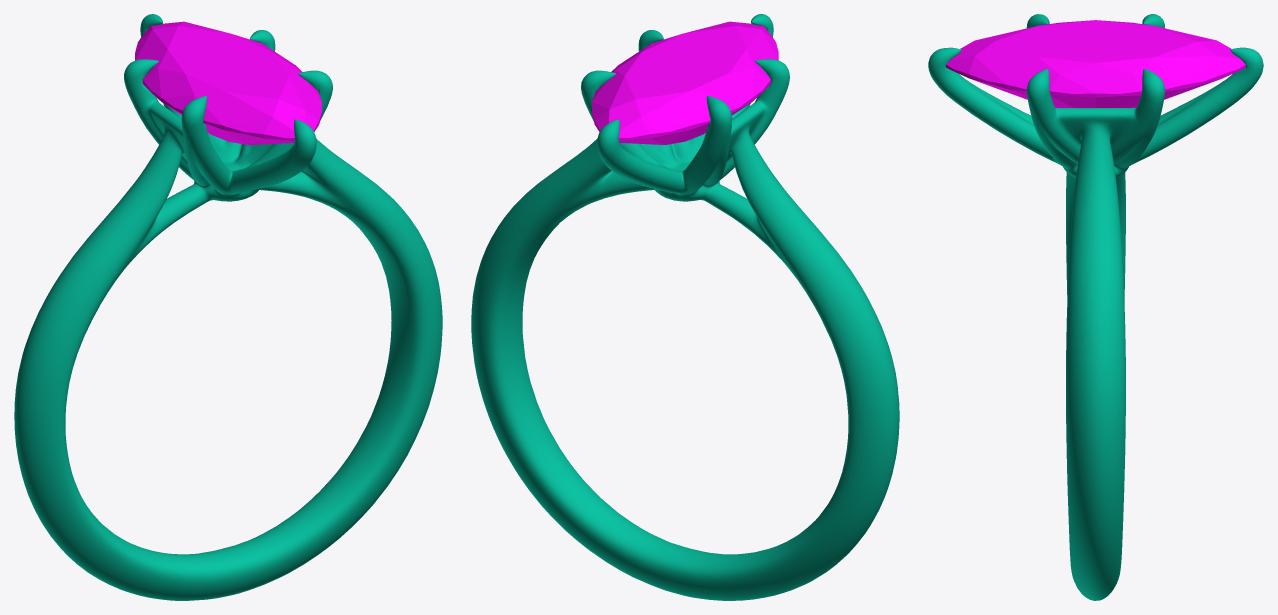
File: BE1D50L_MQ_200ct_RENDER.glb
3 renders of one model, left to right at view 1: azimuth 30°, elevation 25°; view 2: azimuth 150°, elevation 25°; view 3: azimuth 270°, elevation 25°, orthographic.
Visible parts, largest first — view 1: Metal 01, CS_Diamond_Marquise; view 2: Metal 01, CS_Diamond_Marquise; view 3: Metal 01, CS_Diamond_Marquise.
Part boxes in pixels (x1,y1,x2,y2): Metal 01: (14, 14, 442, 600); CS_Diamond_Marquise: (135, 21, 321, 145); Metal 01: (471, 14, 899, 600); CS_Diamond_Marquise: (592, 21, 778, 144); Metal 01: (928, 14, 1263, 600); CS_Diamond_Marquise: (946, 20, 1245, 107).
Bounding box in the file's own units: 20.48 × 24.64 × 13.95.
